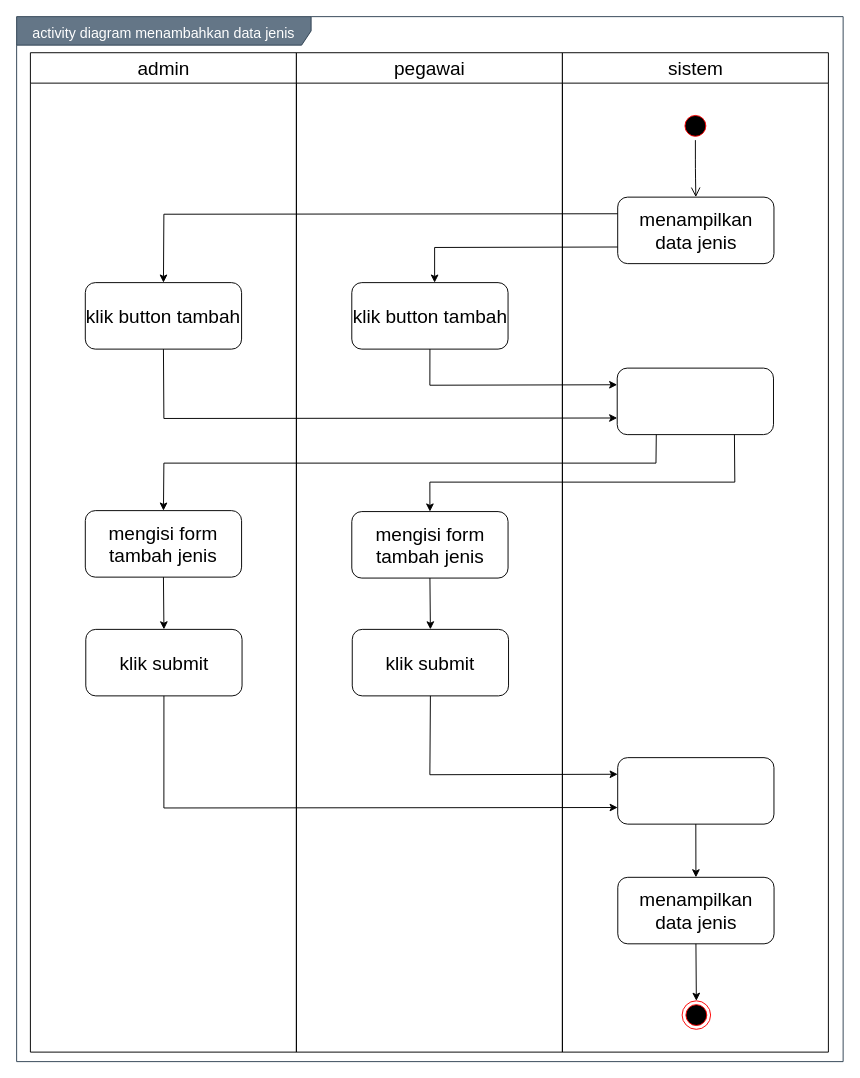
Some shapes in this 860 by 1078 pixel diagram are drawn without their labels. Each missing label, with the centre of its shape:
"menampilkan form tambah jenis" belongs at (x=694, y=401).
"menyimpan ke database" belongs at (x=695, y=790).
